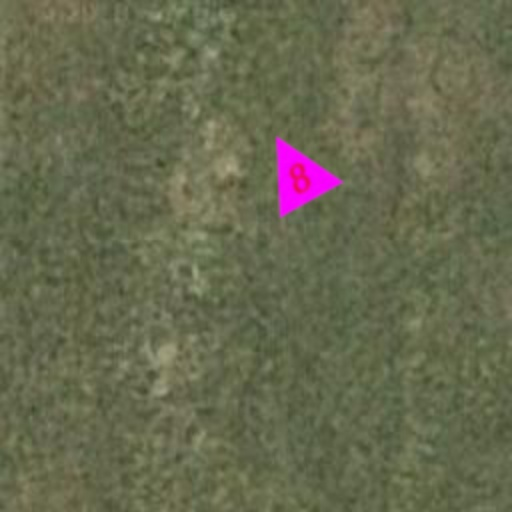triangle: (244, 118, 344, 218)
